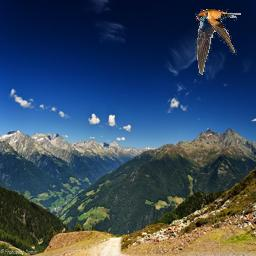Swallow: (195, 9, 241, 75)
